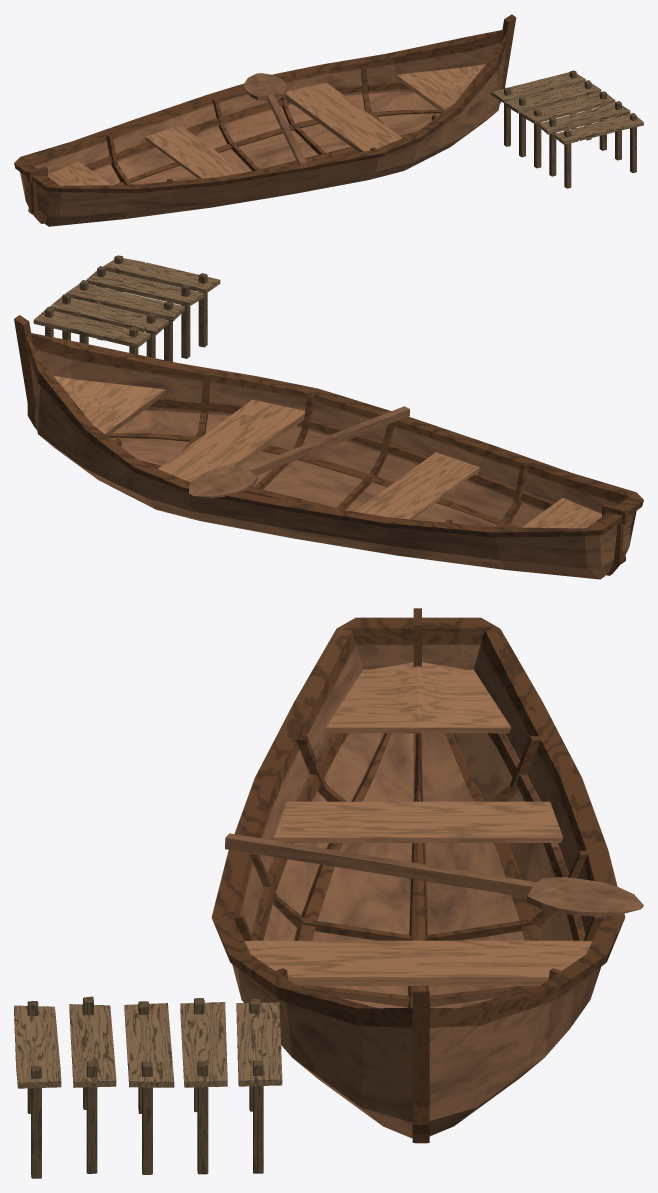
Rendered from BOAT SCENE.fbx.
The picture shows the model from 3 angles, top to bottom: view 1: azimuth 30°, elevation 25°; view 2: azimuth 150°, elevation 25°; view 3: azimuth 270°, elevation 25°; orthographic projection. The views are drawn at different scales.
Parts seen in each view (by area): view 1: BOAT, WOOD PLANES.001, BRIDGE, PEDAL, BOAT WOOD 1, BOAT WOOD 2; view 2: BOAT, WOOD PLANES.001, PEDAL, BRIDGE, BOAT WOOD 1, BOAT WOOD 2; view 3: BOAT, WOOD PLANES.001, PEDAL, BRIDGE, BOAT WOOD 1.
Boxes of the visible parts, <box> form: BOAT: <box>14,30,507,226</box>; WOOD PLANES.001: <box>491,72,643,144</box>; BRIDGE: <box>504,70,636,188</box>; PEDAL: <box>244,73,306,168</box>; BOAT WOOD 1: <box>500,14,516,103</box>; BOAT WOOD 2: <box>27,166,47,223</box>; BOAT: <box>26,333,643,579</box>; WOOD PLANES.001: <box>33,258,220,348</box>; PEDAL: <box>189,406,409,497</box>; BRIDGE: <box>45,255,207,361</box>; BOAT WOOD 1: <box>14,315,36,429</box>; BOAT WOOD 2: <box>602,504,627,575</box>; BOAT: <box>211,617,625,1138</box>; WOOD PLANES.001: <box>14,1002,282,1088</box>; PEDAL: <box>225,833,643,916</box>; BRIDGE: <box>27,996,263,1178</box>; BOAT WOOD 1: <box>412,991,429,1142</box>.
Bounding box in the file's own units: 1213 × 232 × 675.
